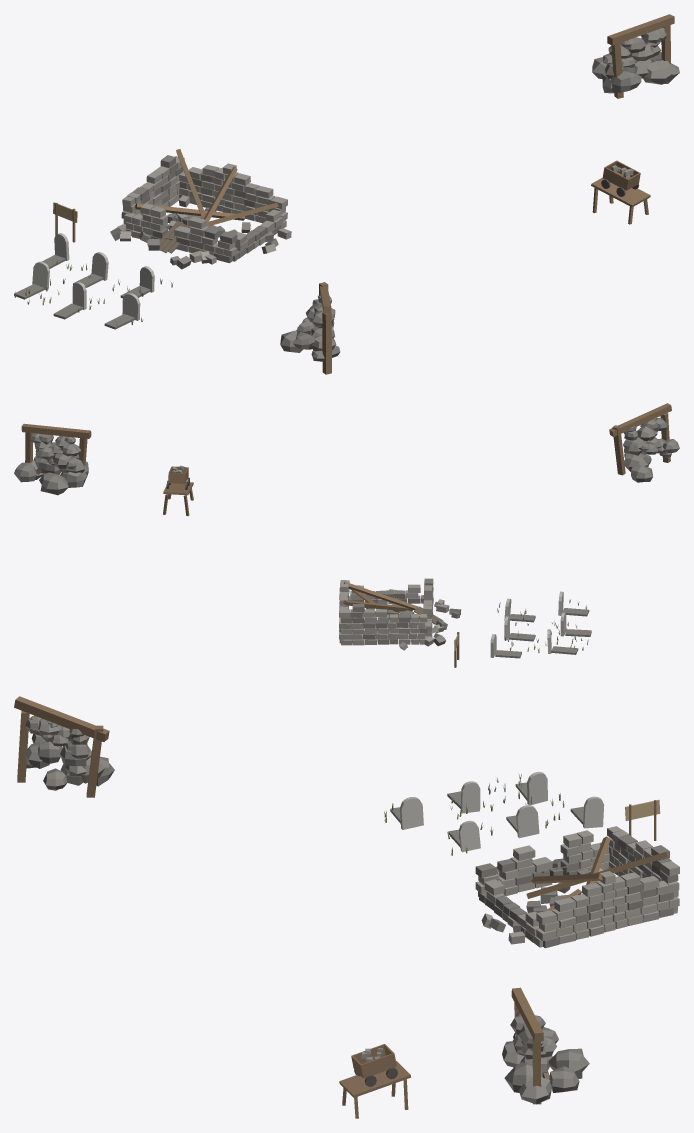
The model's file is PuebloMinero.glb.
3 renders of one model, top to bottom at view 1: azimuth 30°, elevation 25°; view 2: azimuth 150°, elevation 25°; view 3: azimuth 270°, elevation 25°, orthographic. The views are drawn at different scales.
Parts seen in each view (by area): view 1: PuebloChozaDerrumbada, PuebloTunelesColapsados, PuebloLapidas, PuebloVagoneta; view 2: PuebloTunelesColapsados, PuebloChozaDerrumbada, PuebloLapidas, PuebloVagoneta; view 3: PuebloChozaDerrumbada, PuebloTunelesColapsados, PuebloLapidas, PuebloVagoneta, PuebloLetreroTumbas.
Part boxes in pixels (left/top/right/bottom): PuebloChozaDerrumbada: left=110, top=149, right=291, bottom=269; PuebloTunelesColapsados: left=280, top=14, right=679, bottom=374; PuebloLapidas: left=14, top=233, right=154, bottom=329; PuebloVagoneta: left=591, top=160, right=650, bottom=224; PuebloTunelesColapsados: left=14, top=403, right=679, bottom=495; PuebloChozaDerrumbada: left=339, top=578, right=461, bottom=650; PuebloLapidas: left=490, top=591, right=591, bottom=658; PuebloVagoneta: left=163, top=465, right=193, bottom=515; PuebloChozaDerrumbada: left=475, top=826, right=679, bottom=948; PuebloTunelesColapsados: left=14, top=696, right=589, bottom=1104; PuebloLapidas: left=390, top=771, right=604, bottom=852; PuebloVagoneta: left=339, top=1044, right=411, bottom=1118; PuebloLetreroTumbas: left=625, top=799, right=660, bottom=840.
Size of the model in its own units: 38.41 by 6.76 by 27.33.
